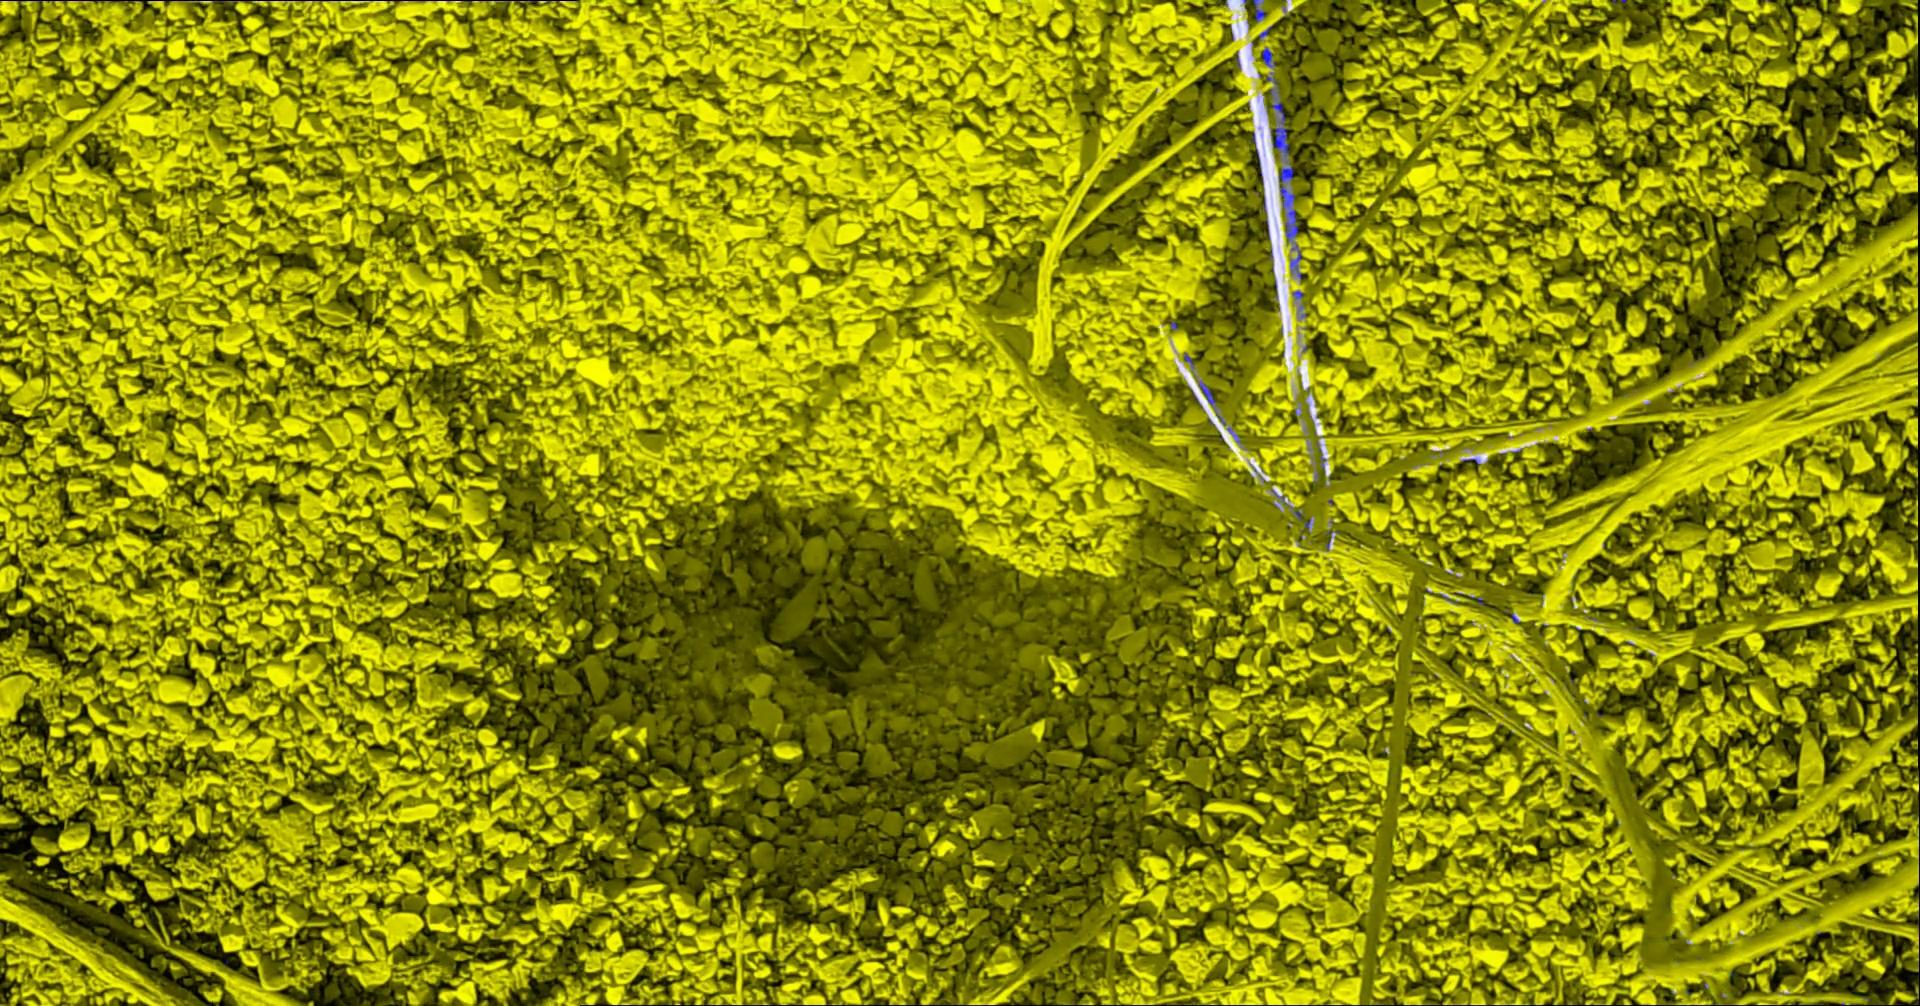ant: (1270, 102, 1289, 155), (1277, 166, 1294, 207), (1285, 210, 1298, 241), (1197, 384, 1215, 404), (1252, 0, 1266, 22), (1290, 245, 1302, 269), (1261, 47, 1275, 66)
